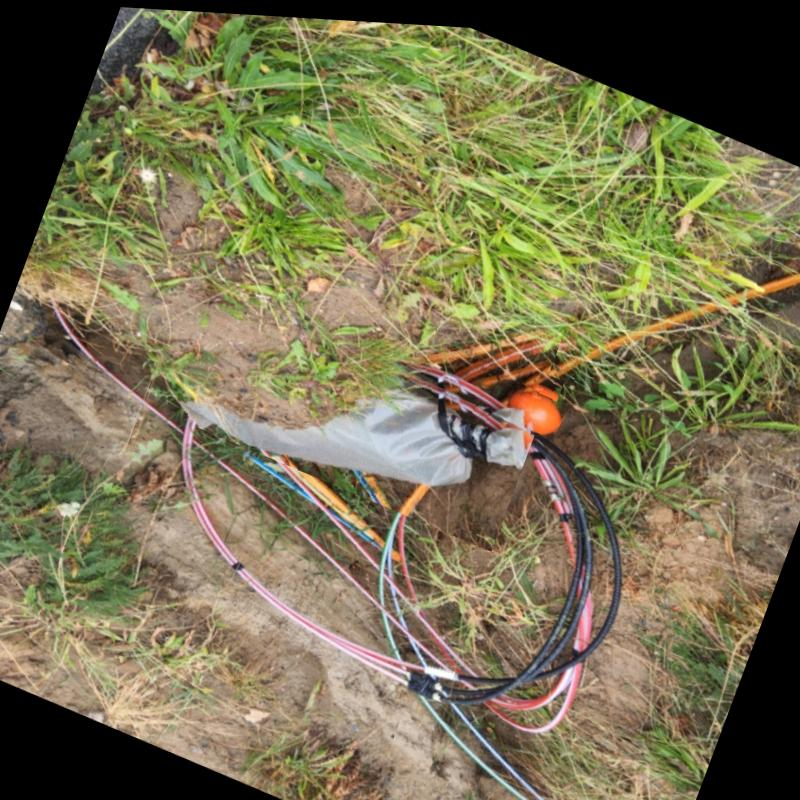Kugelmarker: (507, 385, 562, 426)
NT-Muffen: (182, 367, 527, 478)
Orang-Speednetrohrchen: (550, 261, 800, 369), (425, 321, 569, 374)
